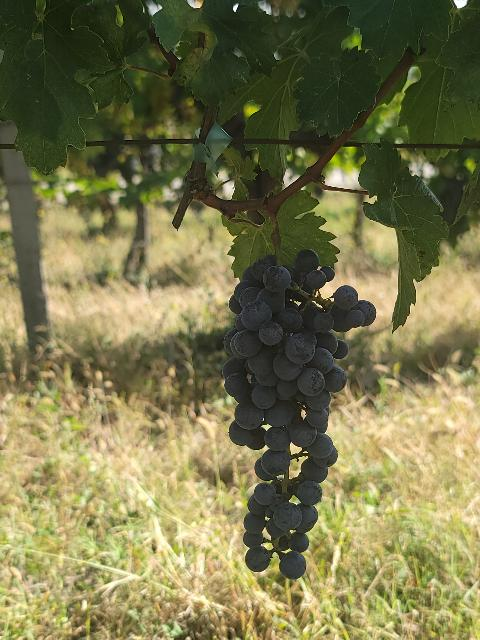grapes: (221, 249, 376, 580)
